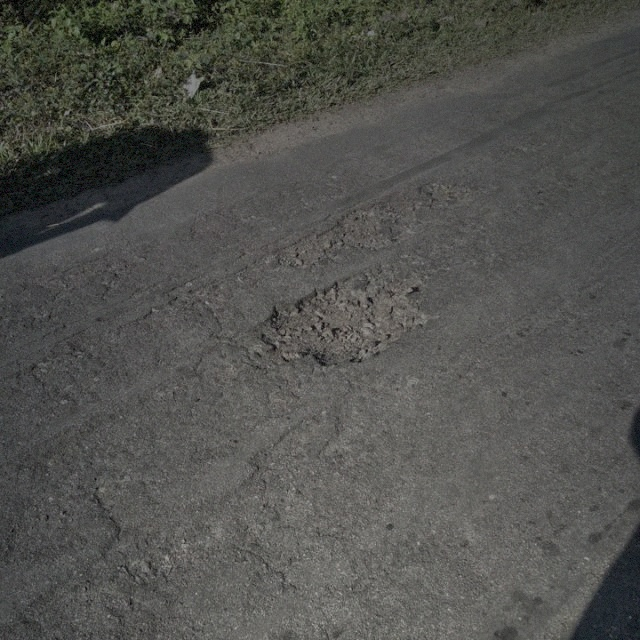pothole: (242, 267, 434, 369), (266, 203, 409, 270), (417, 177, 475, 211)
